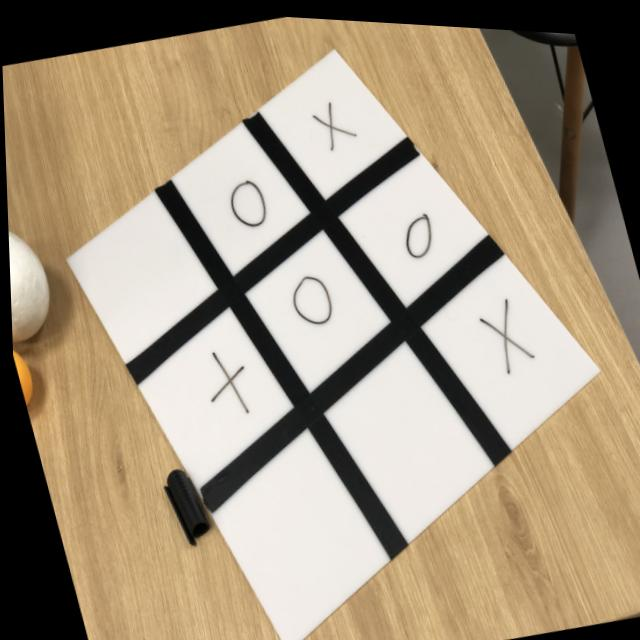null: (184, 420, 400, 640), (305, 331, 505, 544), (50, 190, 224, 366)
o: (279, 257, 342, 331), (219, 165, 273, 234), (391, 198, 442, 260)
table: (3, 37, 613, 640)
x: (192, 336, 256, 423), (472, 288, 535, 375), (304, 89, 361, 157)
